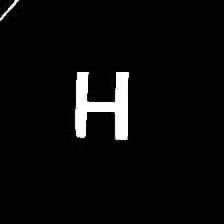LTR_H: (66, 59, 135, 150)
